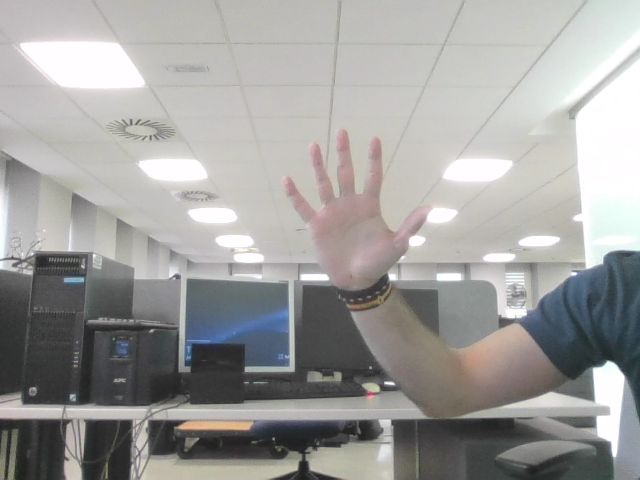Mano Abierta: (293, 141, 420, 261)
